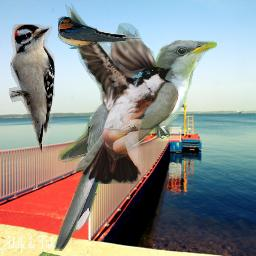Cuckoo: (54, 40, 217, 251)
Swallow: (64, 3, 173, 184), (56, 15, 140, 49)
Woodpecker: (9, 24, 55, 152)
